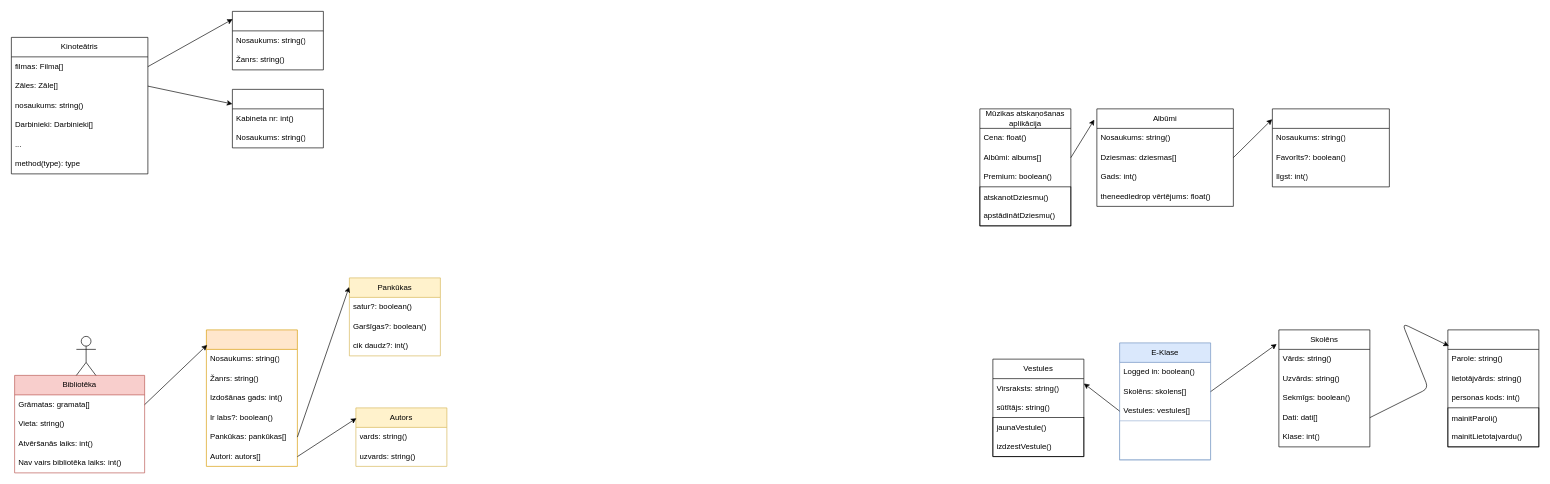
The diagram is 1550 pixels wide and 484 high, and some of its shapes have lost their labels. The shapes that lost their labels are listed below. From the top down, each one's box as (x1, y1, x2, y2) in pixels, then its label:
(232, 11, 323, 70): Filma
(232, 89, 323, 148): Zāle
(1272, 108, 1389, 187): Dziesma
(206, 329, 297, 466): Grāmatas
(1447, 329, 1539, 447): Dati
(1119, 420, 1211, 460): logIn() logOut()
